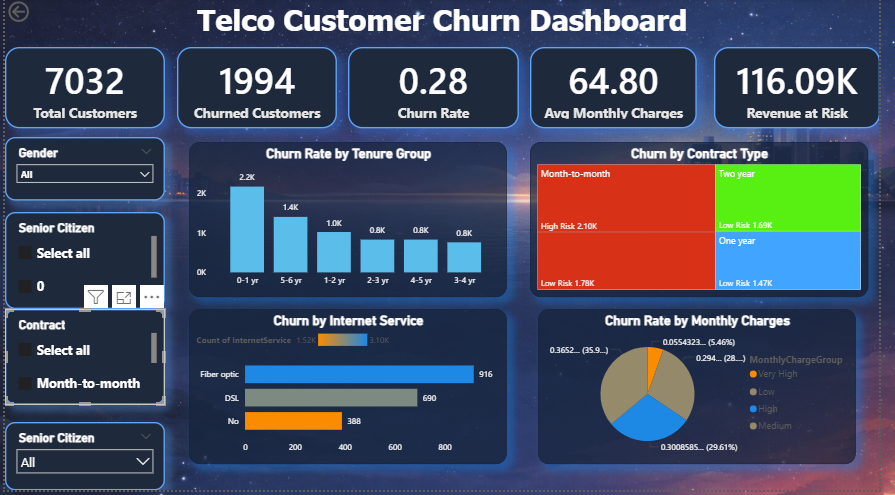

Layout of this report page (visuals, bound fields, positions):
{"tool":"powerbi","page":{"name":"Page 1","canvas":[1280,720],"ordinal":0},"visuals":[{"type":"textbox","box":[0,0,1280,71.4],"z":0},{"type":"card","fields":{"Values":["CleanedData.Total Customers"]},"box":[0,71.4,234.3,118.6],"z":1000},{"type":"card","fields":{"Values":["CleanedData.Churn Rate"]},"box":[501.4,71.4,250,118.6],"z":2000},{"type":"card","fields":{"Values":["CleanedData.Avg Monthly Charges"]},"box":[768.6,71.4,244.3,118.6],"z":3000},{"type":"card","fields":{"Values":["CleanedData.Revenue at Risk"]},"box":[1037.6,71.7,242.9,118.5],"z":4000},{"type":"card","fields":{"Values":["CleanedData.Churned Customers"]},"box":[251.4,71.4,234.3,118.6],"z":5000},{"type":"slicer","fields":{"Values":["CleanedData.gender"]},"box":[0,202.9,234.3,92.9],"z":6000},{"type":"slicer","fields":{"Values":["CleanedData.SeniorCitizen"]},"box":[0,313.2,234.1,142],"z":7000},{"type":"slicer","fields":{"Values":["CleanedData.Contract"]},"box":[0,455.1,234.1,140.5],"z":8000},{"type":"slicer","fields":{"Values":["CleanedData.InternetService"]},"box":[0,620.5,234.1,99.5],"z":9000},{"type":"columnChart","title":"Churn Rate by Tenure Group","fields":{"Category":["CleanedData.TenureGroup"],"Y":["CountNonNull(CleanedData.Tenure Group)"]},"box":[269.3,210.7,465.4,226.8],"z":10000},{"type":"clusteredBarChart","title":"Churn by Internet Service","fields":{"Category":["CleanedData.InternetService"],"Y":["CleanedData.Churned Customers"]},"box":[269.3,455.1,465.4,226.8],"z":11001},{"type":"treemap","title":"Churn by Contract Type","fields":{"Group":["CleanedData.Contract"],"Details":["CleanedData.Churn Risk Level"],"Values":["CountNonNull(CleanedData.Monthly Charges Group)"]},"box":[768.3,210.7,494.6,226.8],"z":11002},{"type":"pieChart","title":"Churn Rate by Monthly Charges","fields":{"Category":["CleanedData.MonthlyChargeGroup"],"Y":["CleanedData.Churn Rate"]},"box":[780,455.1,465.4,226.8],"z":11003},{"type":"actionButton","box":[0,0,100,40],"z":11004}]}

Visuals, with their boxes on the page's 1280x720 design canvas (x1, y1, x2, y2). These are canvas units, not pixel positions in the 895x495 screenshot, which may show the page scaled, cropped or inside an application window:
textbox: bbox=[0, 0, 1280, 71]
card - CleanedData.Total Customers: bbox=[0, 71, 234, 190]
card - CleanedData.Churn Rate: bbox=[501, 71, 751, 190]
card - CleanedData.Avg Monthly Charges: bbox=[769, 71, 1013, 190]
card - CleanedData.Revenue at Risk: bbox=[1038, 72, 1280, 190]
card - CleanedData.Churned Customers: bbox=[251, 71, 486, 190]
slicer - CleanedData.gender: bbox=[0, 203, 234, 296]
slicer - CleanedData.SeniorCitizen: bbox=[0, 313, 234, 455]
slicer - CleanedData.Contract: bbox=[0, 455, 234, 596]
slicer - CleanedData.InternetService: bbox=[0, 620, 234, 720]
"Churn Rate by Tenure Group" columnChart: bbox=[269, 211, 735, 438]
"Churn by Internet Service" clusteredBarChart: bbox=[269, 455, 735, 682]
"Churn by Contract Type" treemap: bbox=[768, 211, 1263, 438]
"Churn Rate by Monthly Charges" pieChart: bbox=[780, 455, 1245, 682]
actionButton: bbox=[0, 0, 100, 40]
